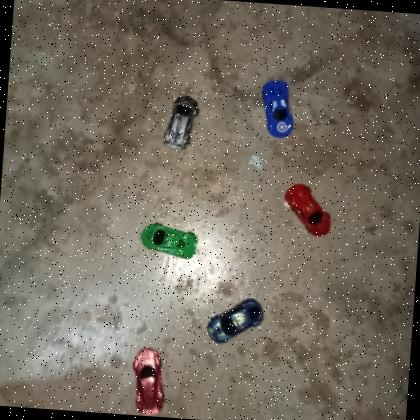Car: (280, 180, 335, 239), (204, 294, 266, 346), (128, 345, 171, 417), (138, 219, 201, 261), (258, 78, 297, 140), (161, 92, 200, 151)
